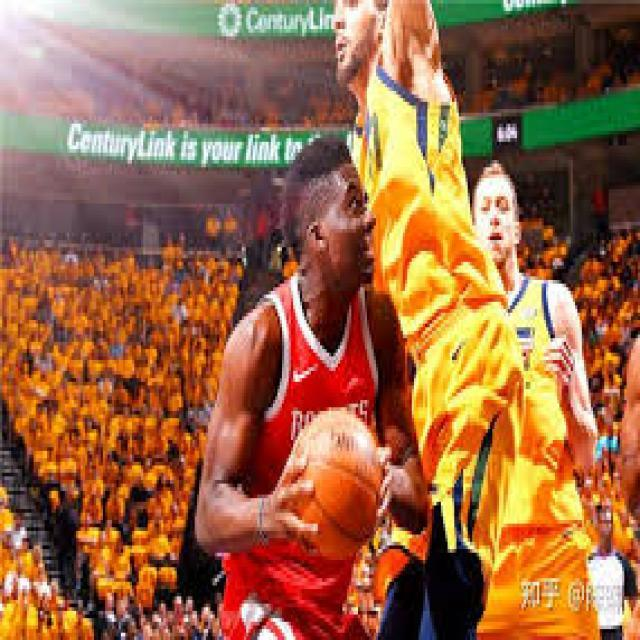rim: (298, 414, 382, 550)
